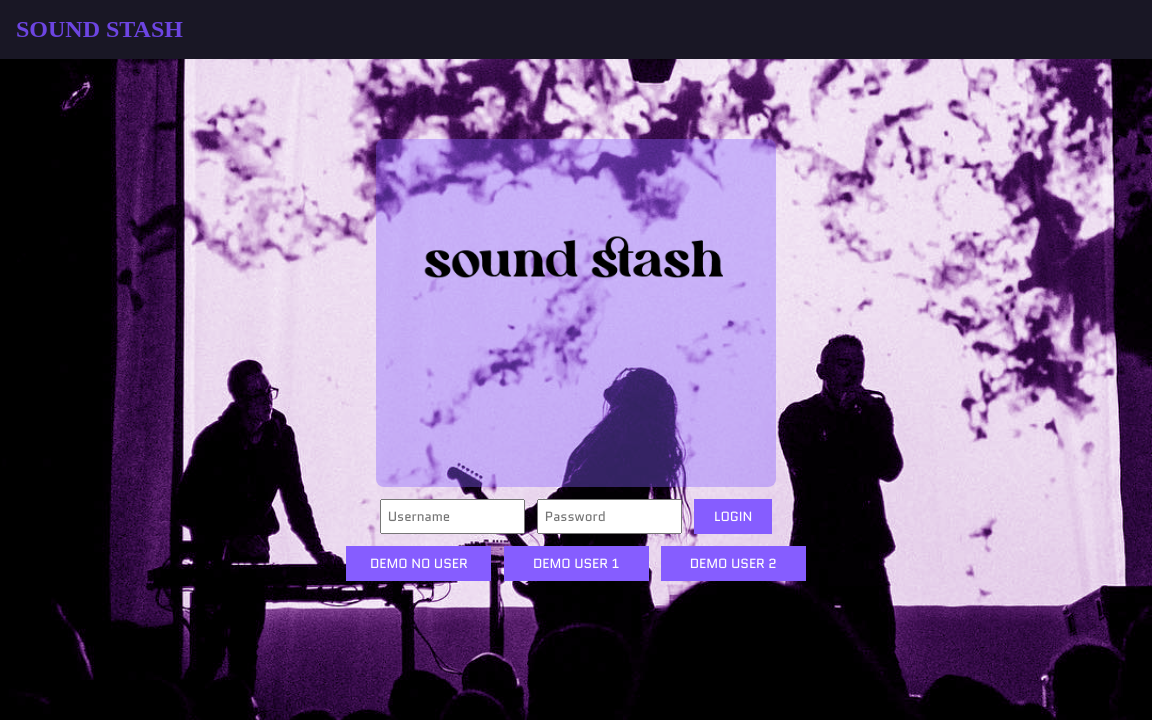
Login Page › should show an error message with invalid user credentials
Type "wrongUser" into the field with class "username-field" at (453, 517), box left=380, top=499, right=525, bottom=534
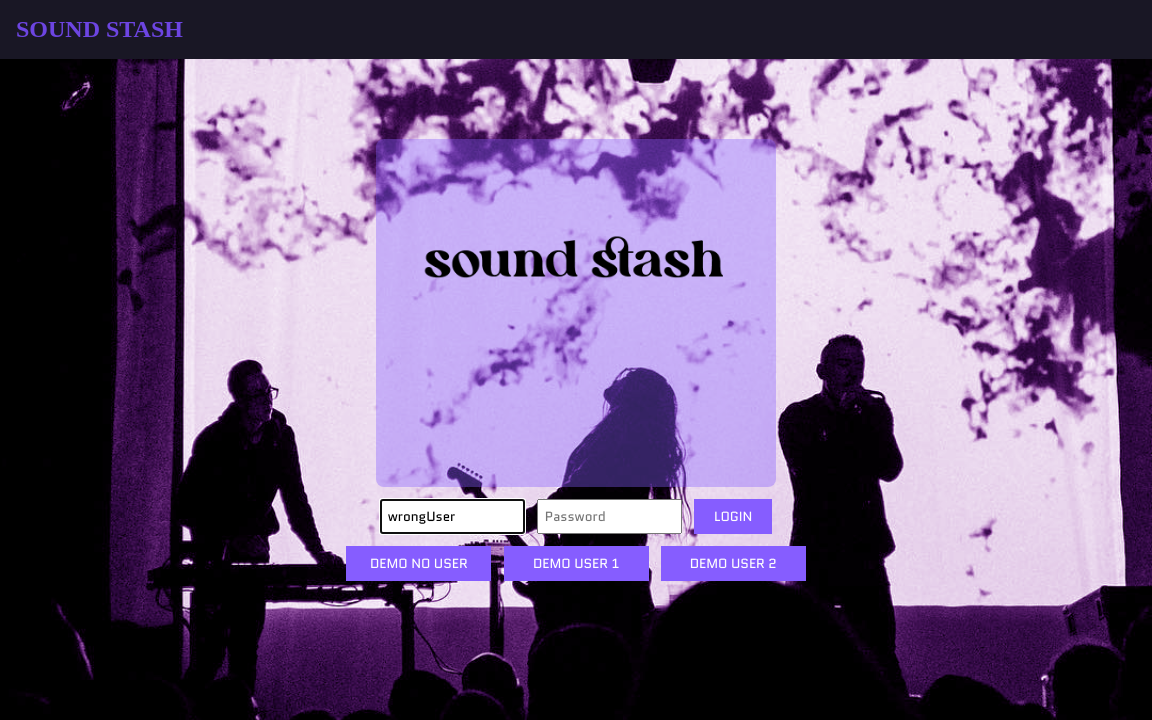
Type "mySecretPassword" into the password field with placeholder "Password" at (610, 517), box left=537, top=499, right=682, bottom=534
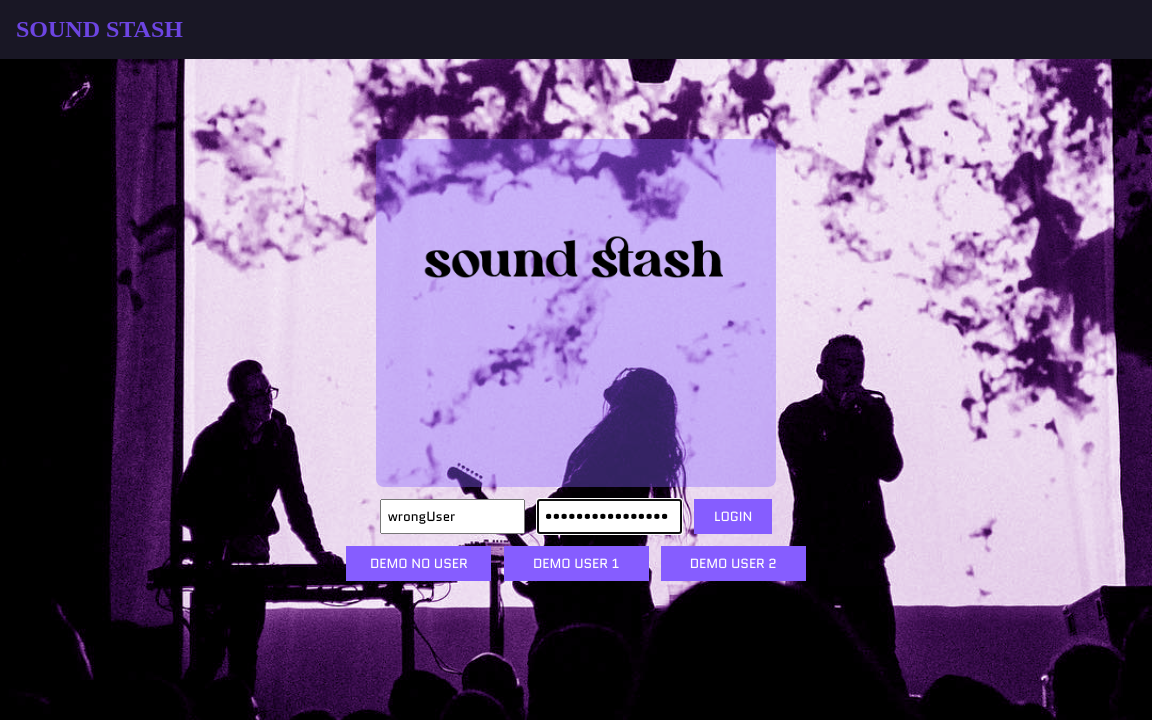
Click the button with class "standard-btn" showing "LOGIN" at (733, 517), box left=694, top=499, right=772, bottom=534
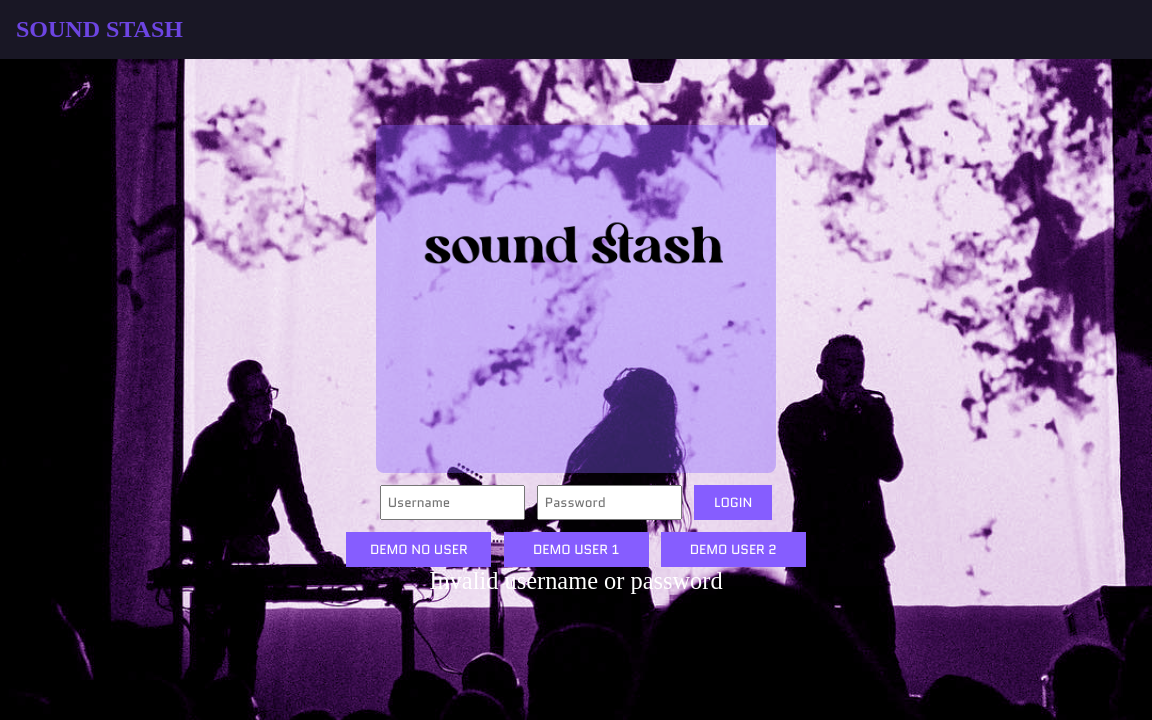
Now the text "Invalid username or password" is shown, box left=429, top=567, right=723, bottom=595
